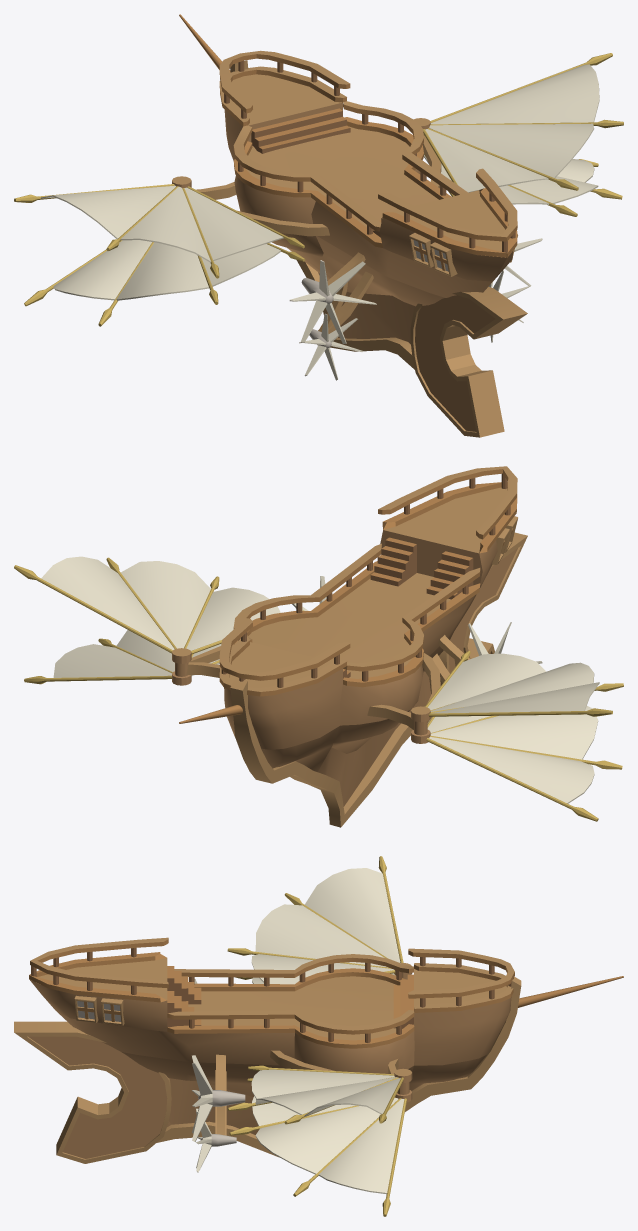
File: AirShip.fbx
3 views of the same model, one above another, from view 1: azimuth 30°, elevation 25°; view 2: azimuth 150°, elevation 25°; view 3: azimuth 270°, elevation 25° (orthographic). The views are drawn at different scales.
Parts seen in each view (by area): view 1: Ship, WingUp_right, WingUp_left, WingDown_left, WingDown_right, AirScrewUp_left, AirScrewDown_left; view 2: Ship, WingUp_right, WingDown_left, WingUp_left, WingDown_right; view 3: Ship, WingUp_left, WingDown_right, WingUp_right, AirScrewUp_right, AirScrewDown_right.
Boxes of the visible parts, x1,y1,x2,y2 form: Ship: (172,14,527,437); WingUp_right: (423,53,623,192); WingUp_left: (14,184,304,278); WingDown_left: (24,240,305,326); WingDown_right: (424,153,622,216); AirScrewUp_left: (289,260,376,343); AirScrewDown_left: (299,313,363,380); Ship: (172,466,527,827); WingUp_right: (14,556,304,654); WingDown_left: (426,706,622,821); WingUp_left: (425,650,623,716); WingDown_right: (24,630,221,684); Ship: (14,937,623,1163); WingUp_left: (227,856,403,984); WingDown_right: (229,1078,406,1216); WingUp_right: (227,1065,403,1124); AirScrewUp_right: (191,1055,245,1141); AirScrewDown_right: (196,1108,236,1172).
Bounding box in the file's own units: 1729 × 649 × 1683.
